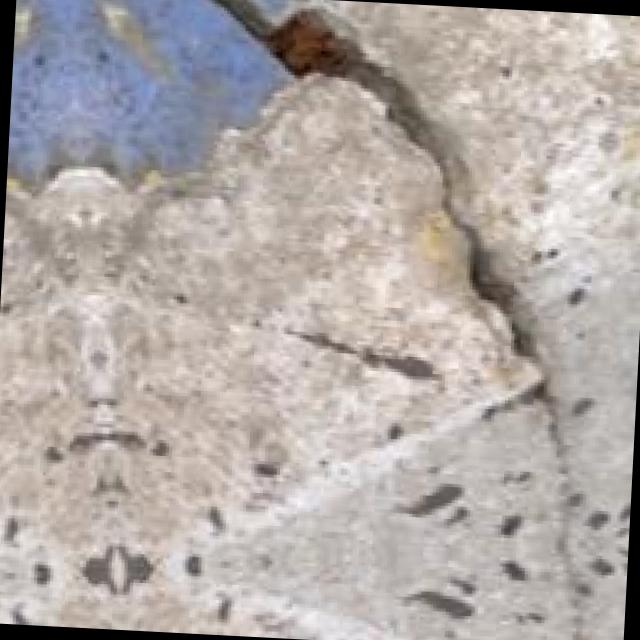crack: (94, 0, 602, 446)
